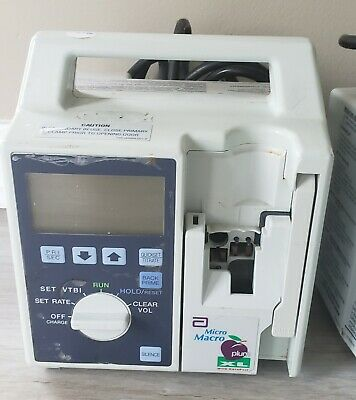plumxl1: (2, 31, 326, 379)
